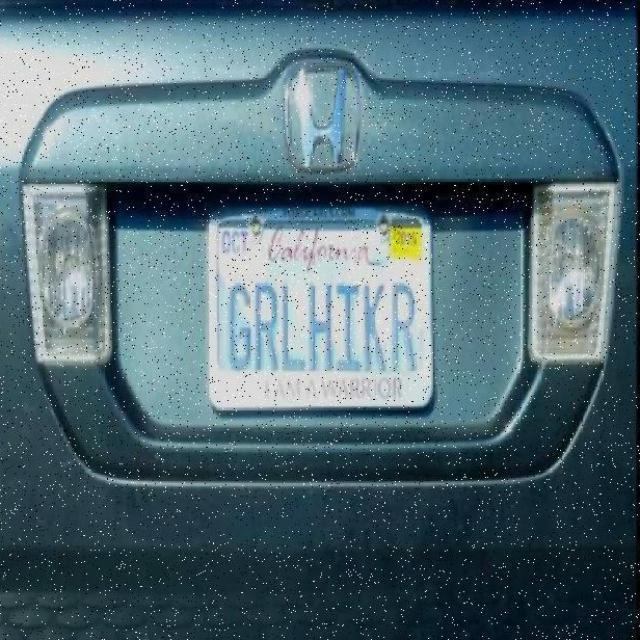license-plate: (205, 205, 438, 416)
